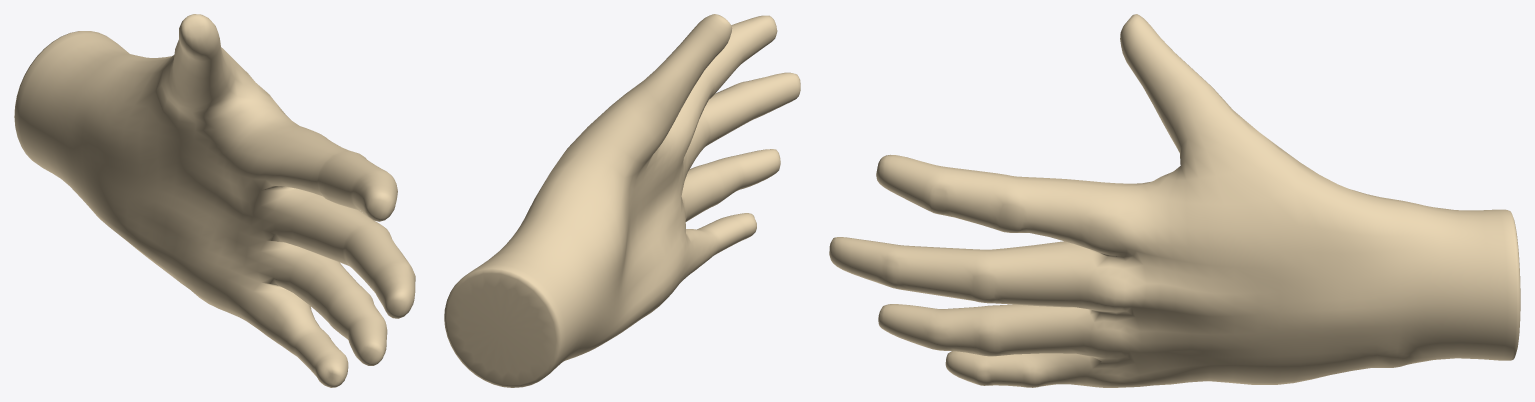
File: HandSmall.fbx
The picture shows the model from 3 angles, left to right: view 1: azimuth 30°, elevation 25°; view 2: azimuth 150°, elevation 25°; view 3: azimuth 270°, elevation 25°; orthographic projection. The views are drawn at different scales.
Visible parts, largest first — view 1: Hand.013; view 2: Hand.013; view 3: Hand.013.
Part boxes in pixels (bbox=[...]): Hand.013: bbox=[14, 14, 415, 387]; Hand.013: bbox=[444, 14, 800, 387]; Hand.013: bbox=[829, 14, 1520, 387].
Size of the model in its own units: 344 by 722 by 1348.
